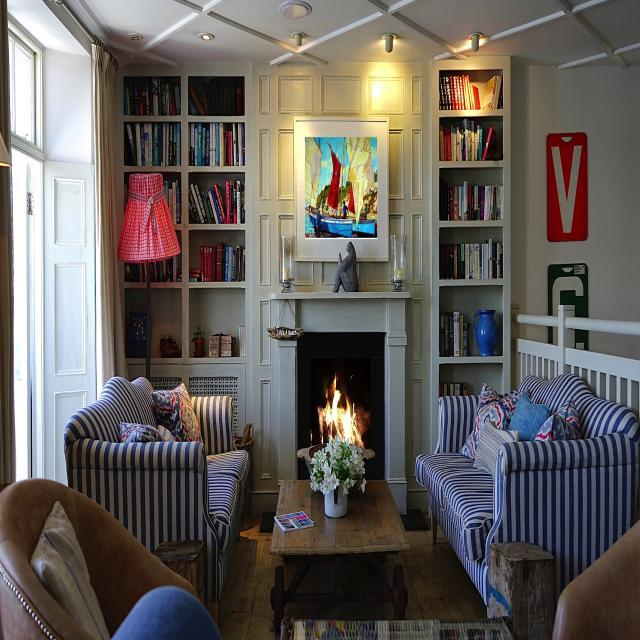Fire: (318, 372, 364, 451)
